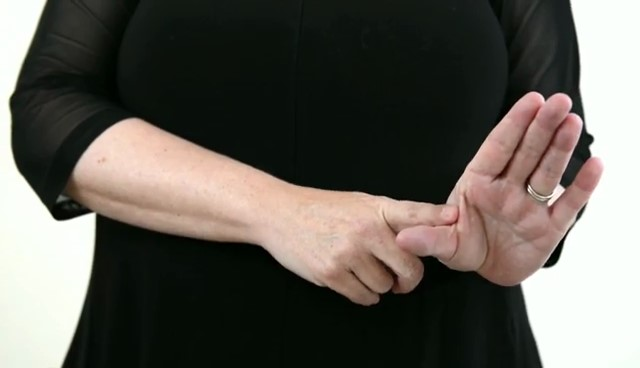Y: (251, 81, 614, 311)
